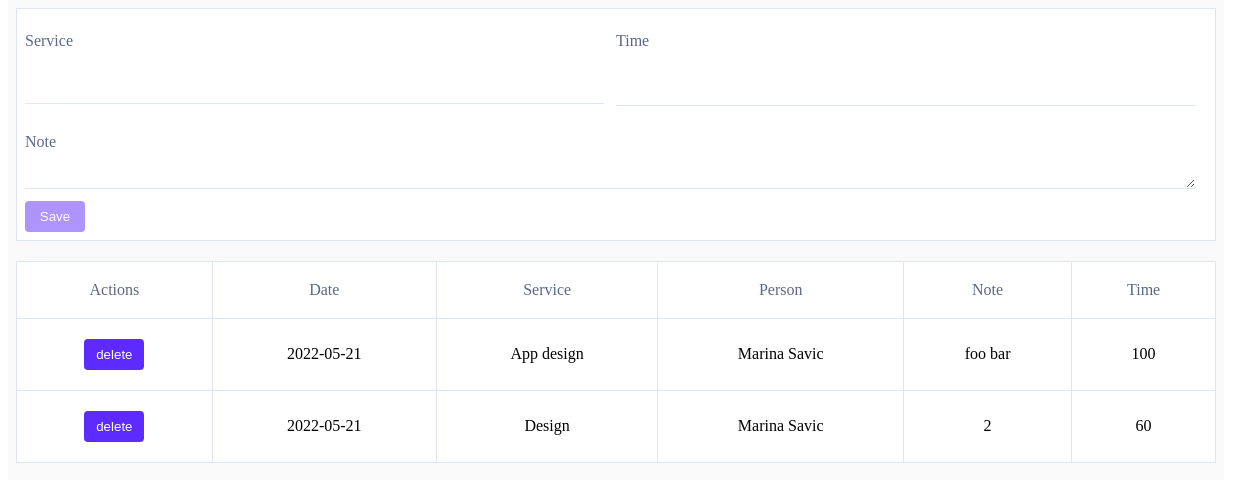
Scenario: home page › should delete time entry
Expected: the row with test id "row-delete-14541918" is shown, x1=16 y1=318 x2=1216 y2=390
Click the button "delete" in the row of "App design": (114, 354) x1=84 y1=339 x2=144 y2=370
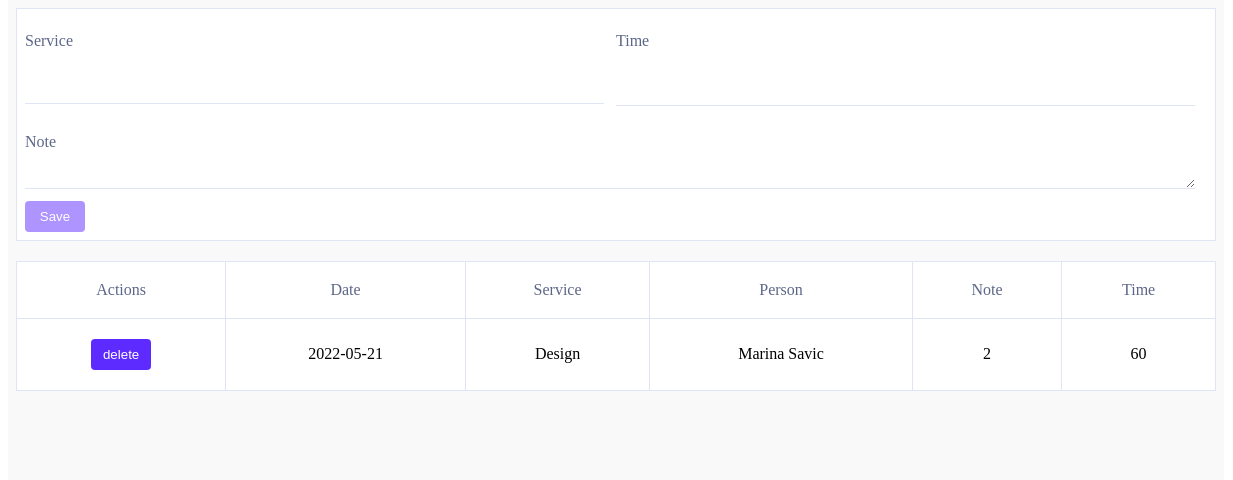
Expected: the row with test id "row-delete-14541918" is gone
